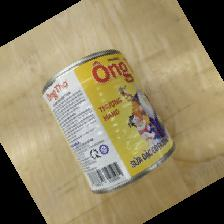Ong_tho: (41, 49, 177, 195)
